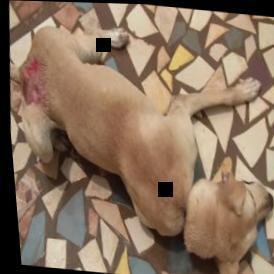skin_lesions: (13, 52, 45, 106)
